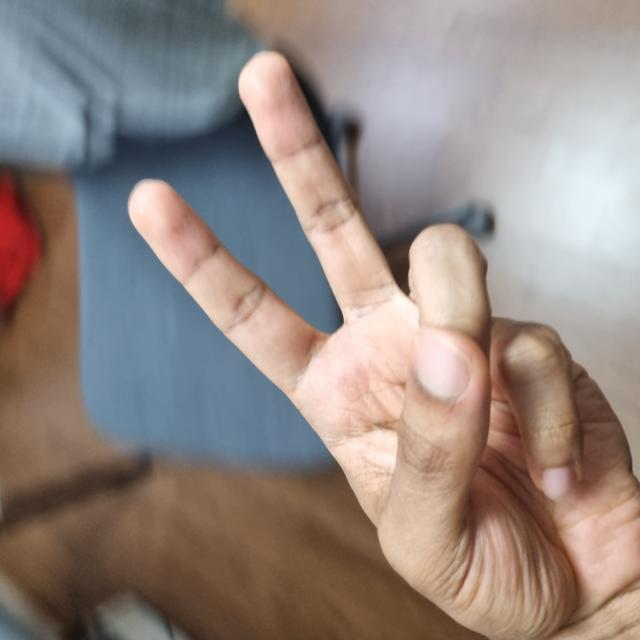Scissors: (3, 133, 581, 638)
